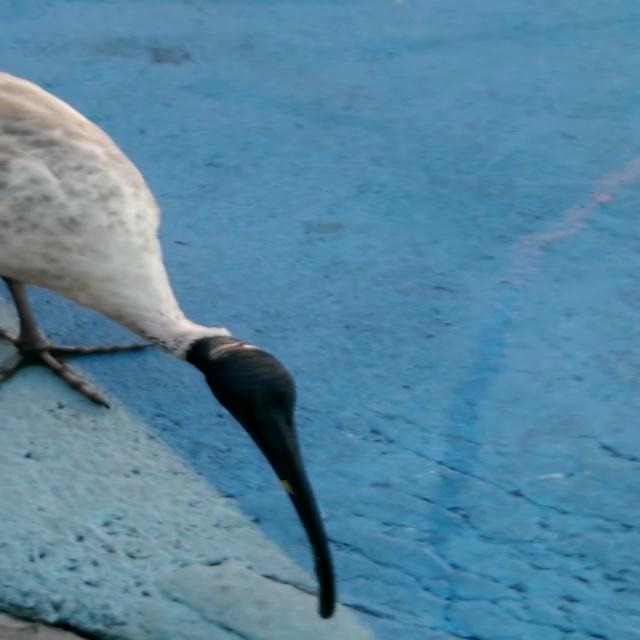Birds-Ibis: (6, 63, 353, 625)
